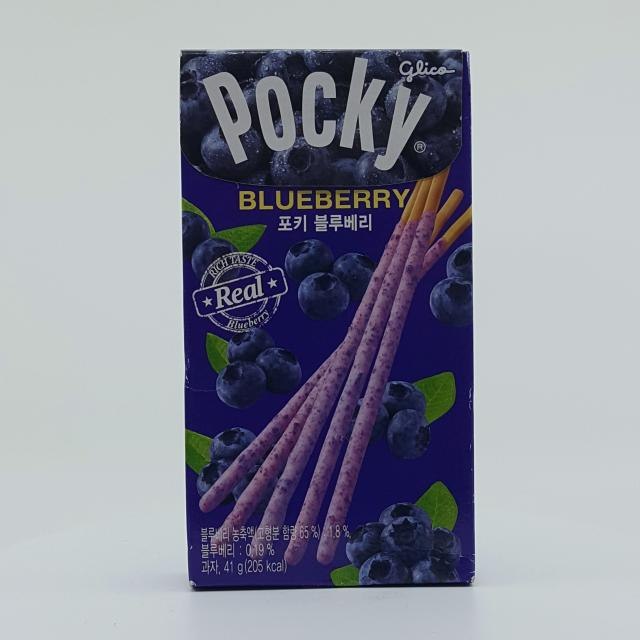-41G: (181, 50, 476, 592)
